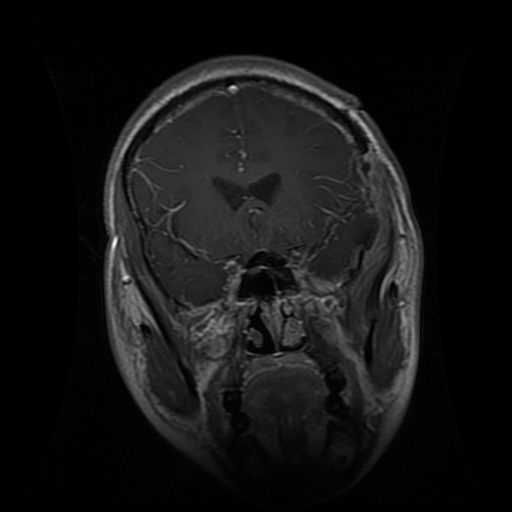glioma: (305, 190, 376, 277)
